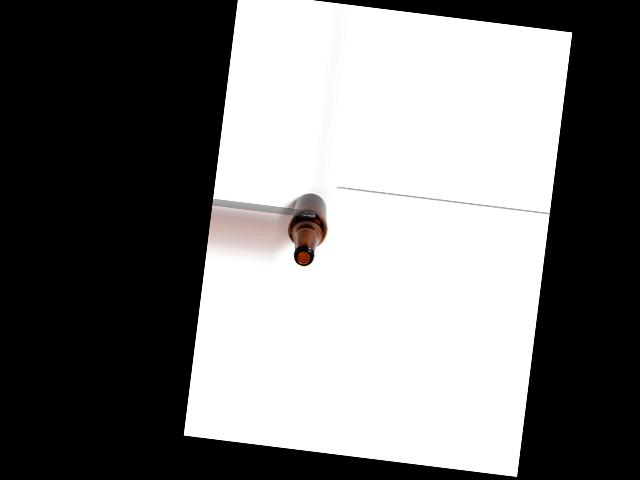beer: (282, 190, 331, 268)
